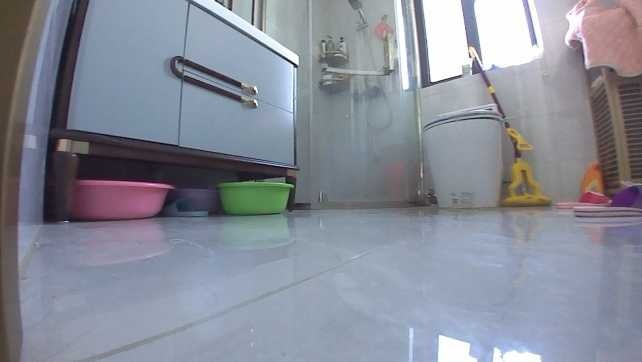slipper: (570, 184, 641, 219), (552, 188, 612, 209)
toilet: (418, 104, 508, 211)
washstand: (43, 0, 306, 214)
